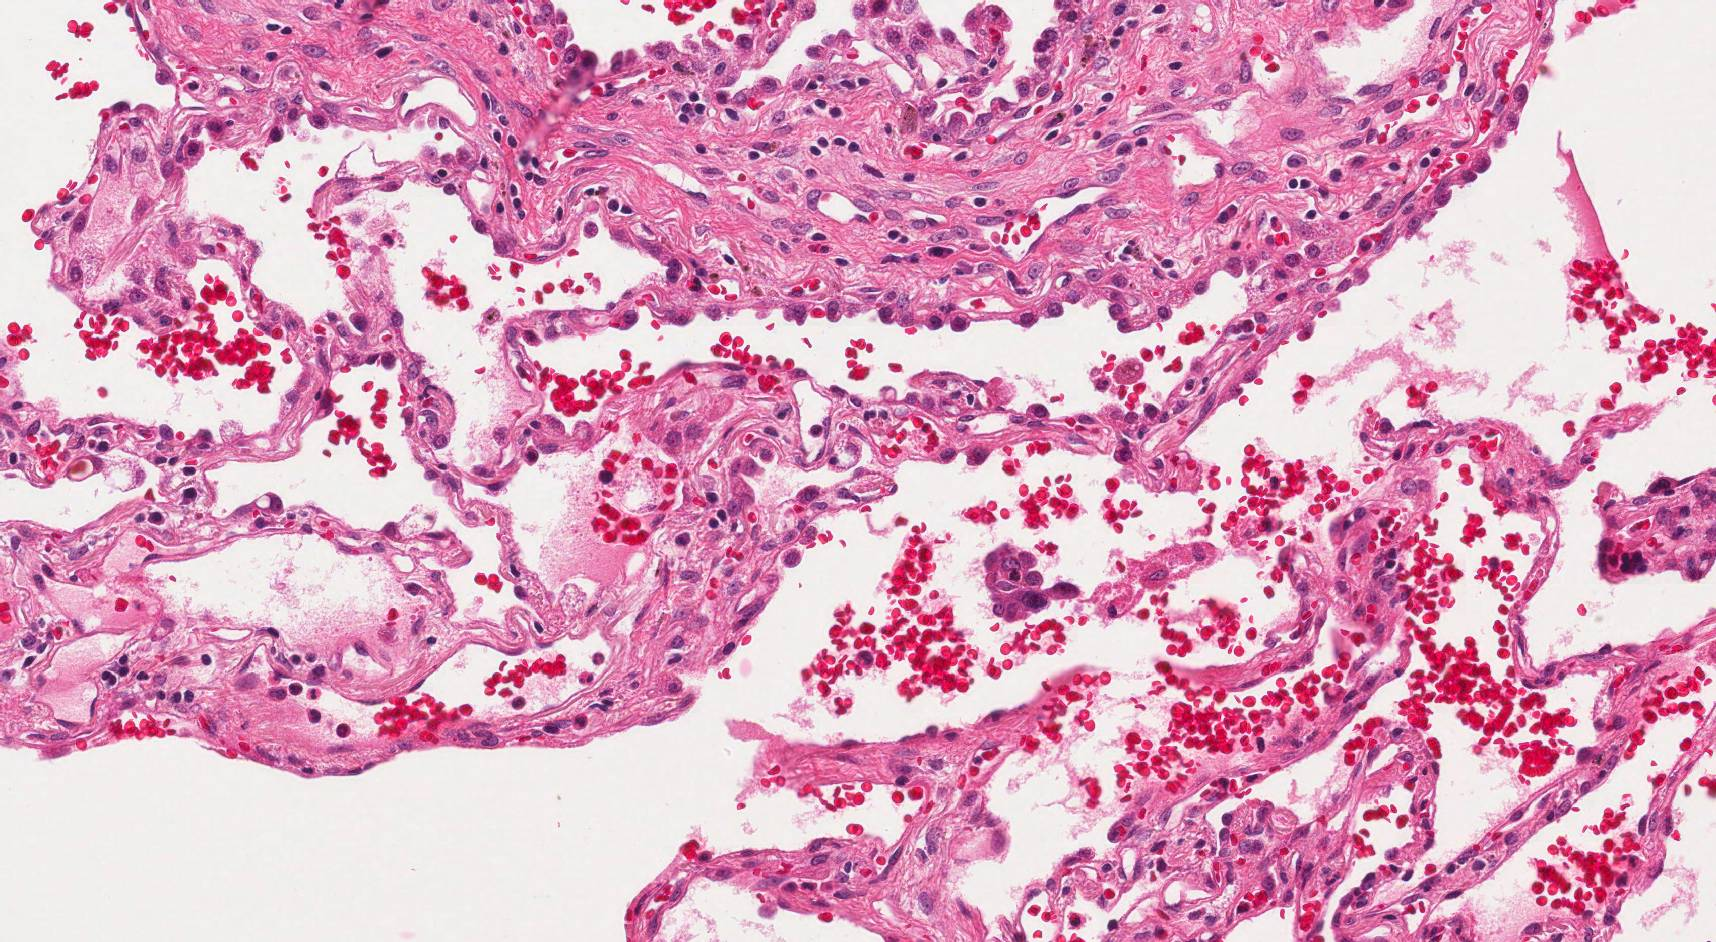stas: (980, 540, 1080, 623)
